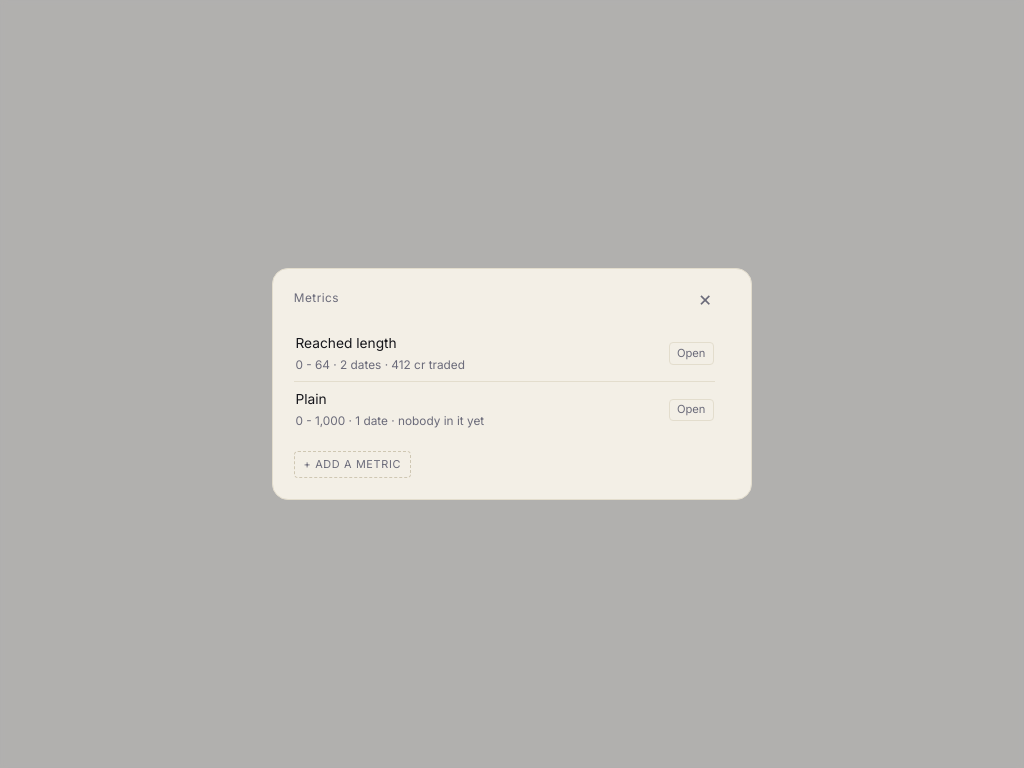
Test: every row carries a title › stopping a traded until-settled date says it settles when you settle it, not on a date
Expected: the text "Reached length" is shown, [295, 335, 397, 351]
Click the button "Open" in the row of "0 - 64 · 2 dates · 412 cr traded": click(691, 354) [669, 342, 714, 365]
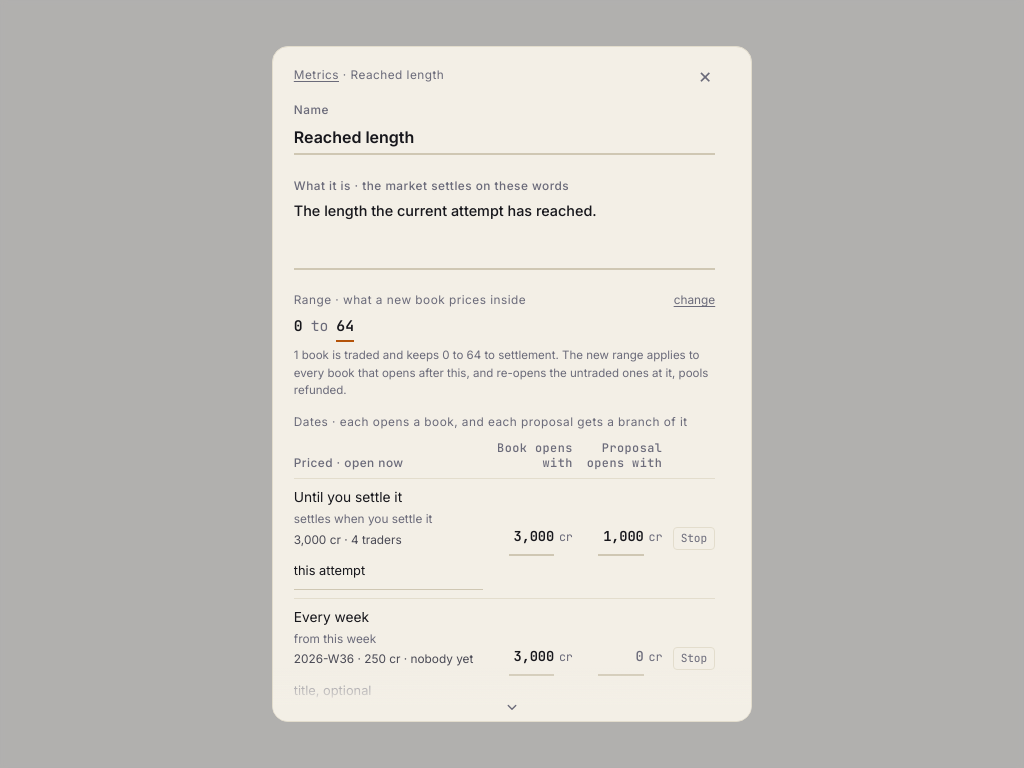
Now the table with class "metrics-dates-table" is shown, box [294, 441, 715, 718]
Click the button "Stop" below "settles when you settle it": click(694, 539) [672, 527, 715, 550]
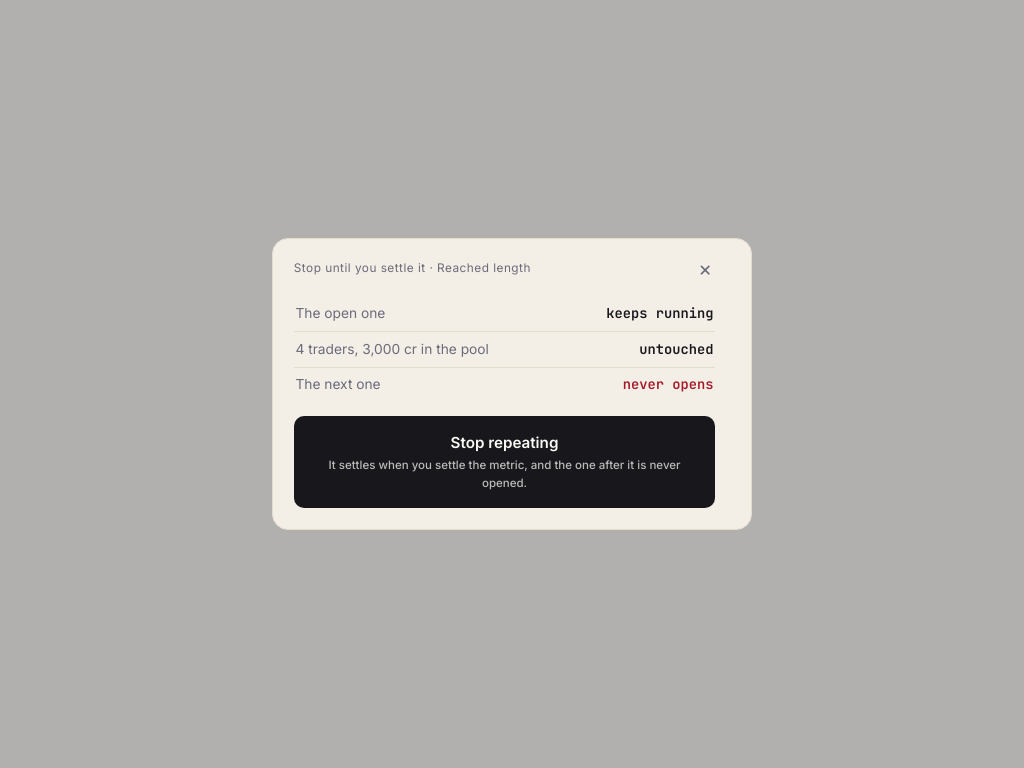
Now the button "Stop repeating" shows "It settles when you settle the metric, and the one after it is never opened.", box [294, 416, 715, 508]
